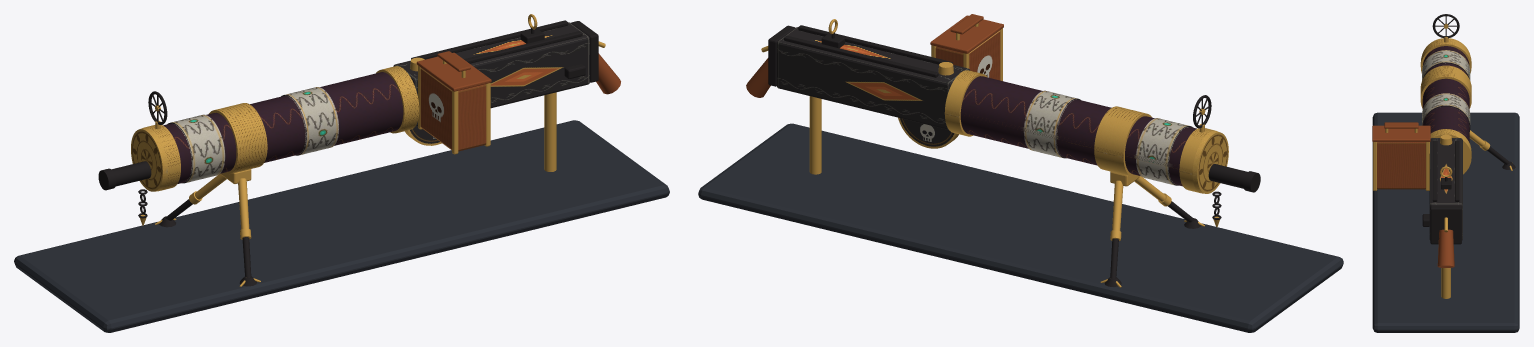
Rendered from m1917_figure.glb.
3 renders of one model, left to right at view 1: azimuth 30°, elevation 25°; view 2: azimuth 150°, elevation 25°; view 3: azimuth 270°, elevation 25°, orthographic. The views are drawn at different scales.
Parts seen in each view (by area): view 1: m1917_figure; view 2: m1917_figure; view 3: m1917_figure.
Part boxes in pixels (x1,y1,x2,y2): m1917_figure: (14, 14, 669, 332); m1917_figure: (698, 14, 1343, 332); m1917_figure: (1372, 14, 1519, 332).
Bounding box in the file's own units: 0.19 × 0.0595 × 0.0552.
3 materials, 2 textured.
